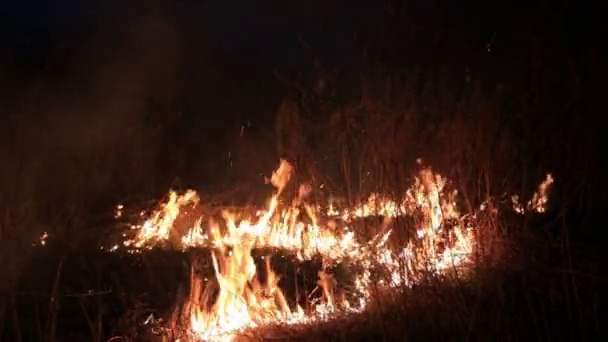fire: (137, 159, 474, 341), (529, 174, 552, 211)
